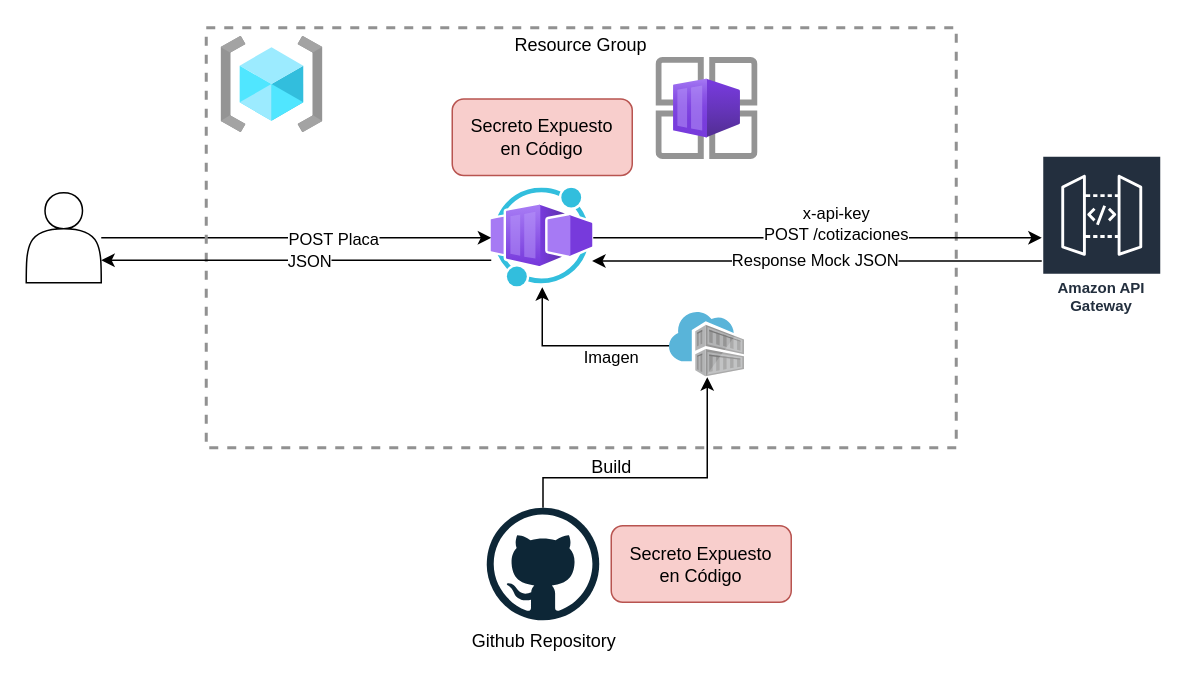
Image size: 1188x677. Some labels were removed from this diagram. The shapes that lost their labels are listed below. From the top down, each one's centre as x and y in pixels, then its label:
At (707,108): "Container APP Environments".
At (541,237): "Container APP".
At (706,344): "Container Registry".
